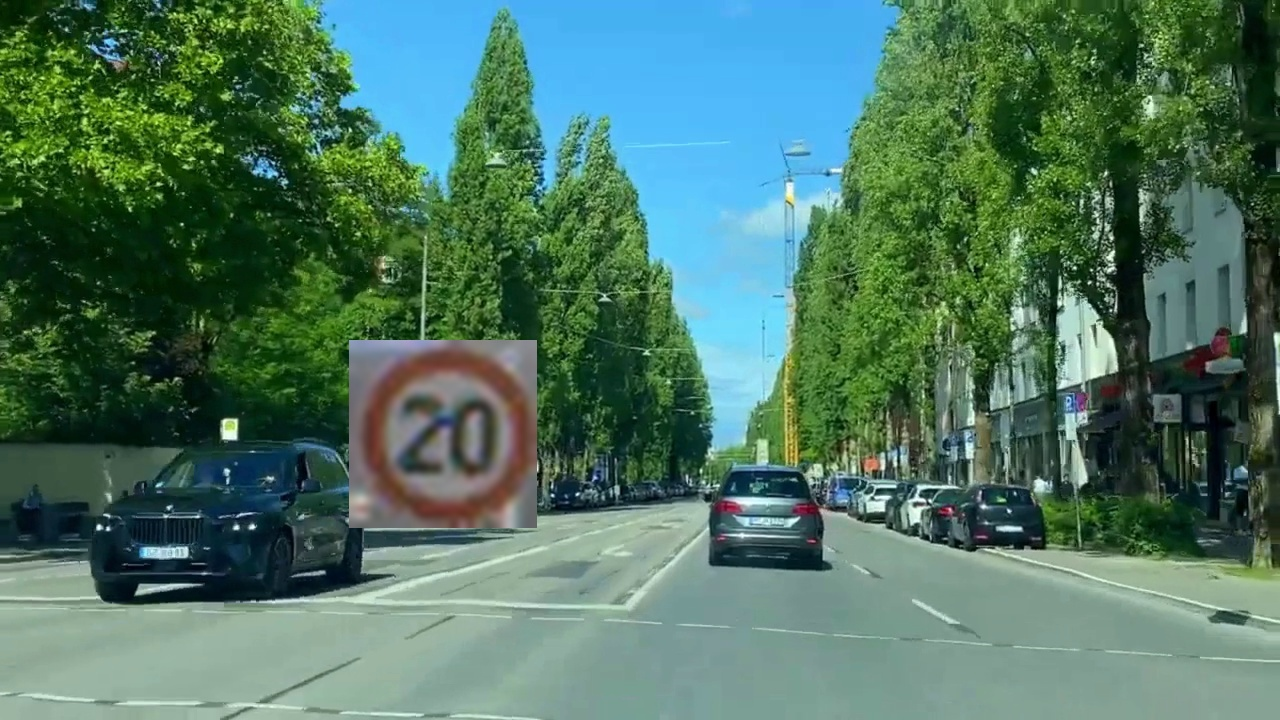Speed 20: (349, 340, 537, 528)
